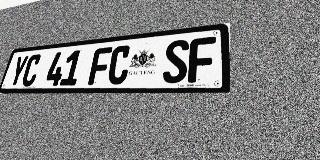1: (59, 50, 83, 86)
4: (44, 51, 68, 86)
C: (106, 45, 132, 85), (20, 54, 42, 87)
F: (188, 36, 216, 83), (88, 47, 113, 85)
S: (162, 39, 189, 83)
Y: (8, 55, 29, 87)
